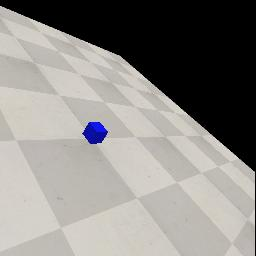box: (82, 122, 108, 144)
